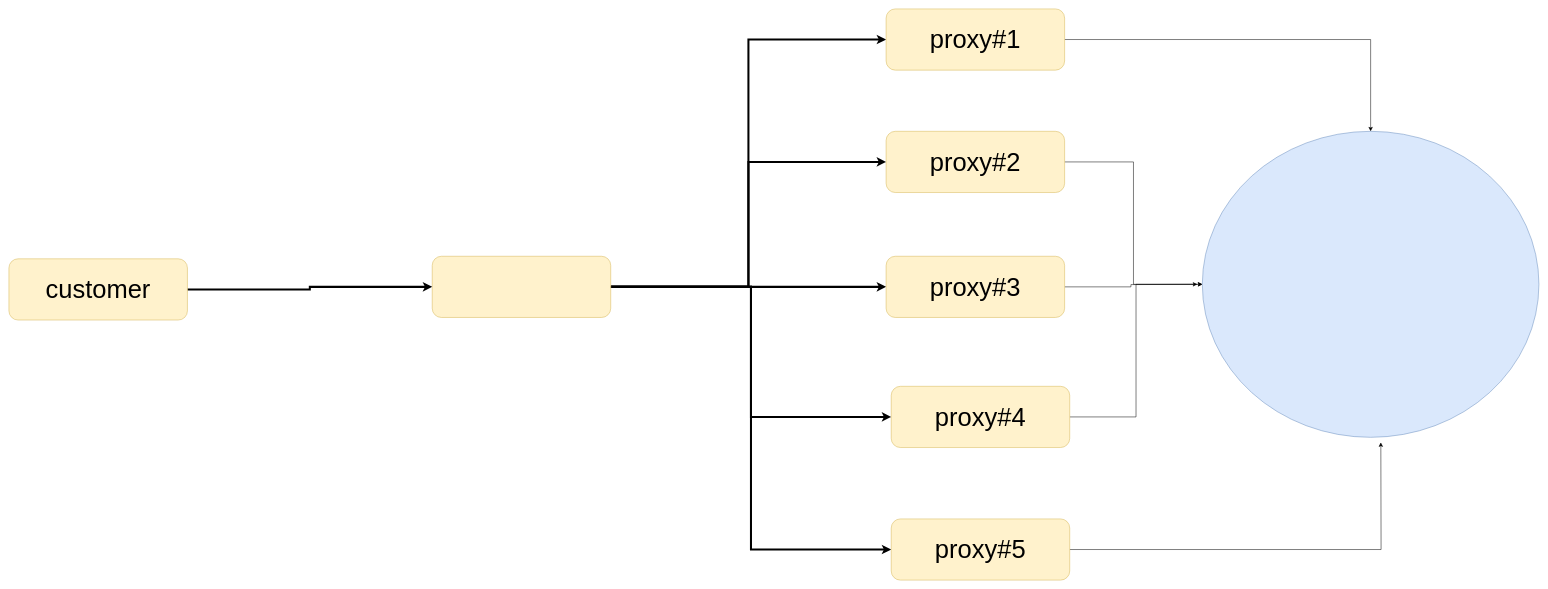
The diagram is 1548 pixels wide and 589 high, and some of its shapes have lost their labels. Here are the shapes that lost their labels. From the top down, the centre of each, then its label:
[521,286]: serviceProxy
[1370,284]: amazon
